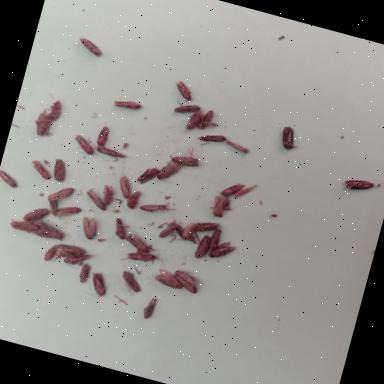pbw: (168, 142, 202, 170), (63, 248, 98, 274), (54, 242, 86, 269), (122, 230, 156, 255), (84, 271, 112, 300), (154, 158, 182, 186), (22, 202, 52, 228), (32, 220, 67, 242), (139, 199, 177, 219), (341, 176, 375, 198), (152, 268, 186, 290), (208, 237, 236, 263), (46, 182, 76, 206), (172, 268, 204, 290), (170, 80, 198, 104), (32, 108, 54, 138), (8, 216, 40, 236), (94, 144, 129, 162), (219, 178, 245, 202), (278, 126, 302, 152), (184, 107, 207, 134), (170, 274, 201, 294), (26, 159, 54, 181), (70, 134, 98, 156), (76, 37, 105, 58), (119, 271, 145, 294), (83, 189, 110, 211), (223, 140, 251, 160), (192, 233, 212, 261), (194, 218, 222, 238), (195, 129, 226, 147), (55, 202, 82, 222), (172, 225, 200, 244), (173, 100, 201, 119), (136, 164, 158, 188), (115, 175, 136, 200), (78, 216, 99, 241), (94, 121, 112, 149), (50, 158, 69, 183), (48, 96, 66, 122), (112, 97, 142, 112), (197, 108, 215, 132), (111, 218, 130, 240), (210, 196, 226, 222), (44, 195, 62, 218), (180, 220, 198, 242), (142, 296, 158, 320), (0, 170, 20, 189), (207, 228, 222, 253), (125, 188, 142, 210), (43, 242, 60, 264), (100, 184, 116, 207), (158, 223, 177, 241), (78, 263, 92, 284)
